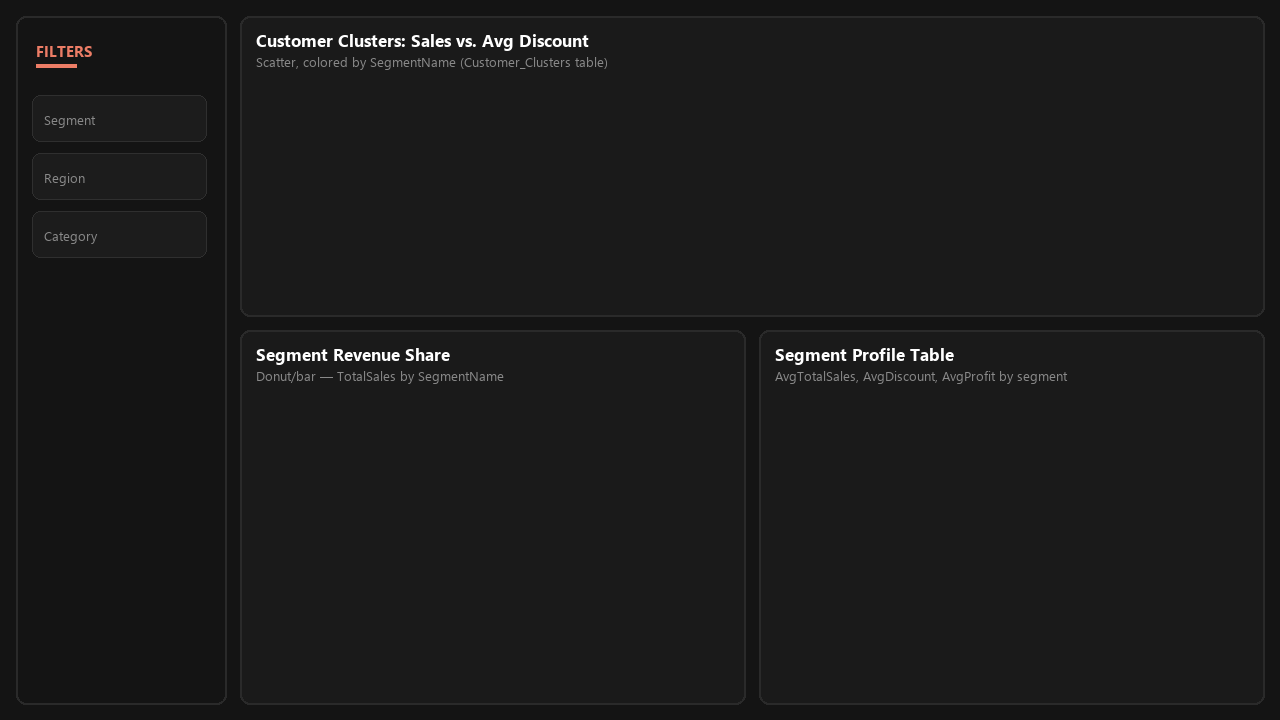

This screenshot's page, from the dashboard's own definition file:
{"tool":"powerbi","page":{"name":"Segmentation","canvas":[1280,720],"ordinal":2},"visuals":[{"type":"shape","box":[21.7,11.7,1236.7,63.3],"z":0},{"type":"textbox","box":[34.5,18.2,650.9,68.2],"z":1},{"type":"slicer","fields":{"Values":["Customer_Clusters.SegmentName"]},"box":[962.5,27.5,91.8,47.3],"z":2},{"type":"slicer","fields":{"Values":["Orders.Region"]},"box":[1053.8,28.8,91.8,47.3],"z":3},{"type":"slicer","fields":{"Values":["Orders.Category"]},"box":[1146.2,27.5,91.8,47.3],"z":4},{"type":"scatterChart","fields":{"Series":["Customer_Clusters.SegmentName"],"X":["Customer_Clusters.AvgDiscount"],"Y":["Customer_Clusters.TotalSales"]},"box":[21.7,86.7,1236.7,301.7],"z":5},{"type":"donutChart","fields":{"Category":["Customer_Clusters.SegmentName"],"Y":["Sum(Customer_Clusters.TotalSales)"]},"box":[21.7,408.3,618.3,293.3],"z":6},{"type":"tableEx","title":"Segment Profile Table","fields":{"Values":["Customer_Clusters.SegmentName","Customer_Clusters.TotalSales","Customer_Clusters.AvgDiscount","Customer_Clusters.TotalProfit","Customer_Clusters.OrderCount"]},"box":[651.7,408.3,606.7,293.3],"z":7}]}

Visuals, with their boxes in screenshot pixels (x1, y1, x2, y2), scaled from the page's 1280x720 canvas onto the 1280x720 screenshot:
shape: {"x1": 22, "y1": 12, "x2": 1258, "y2": 75}
textbox: {"x1": 34, "y1": 18, "x2": 685, "y2": 86}
slicer - Customer_Clusters.SegmentName: {"x1": 962, "y1": 28, "x2": 1054, "y2": 75}
slicer - Orders.Region: {"x1": 1054, "y1": 29, "x2": 1146, "y2": 76}
slicer - Orders.Category: {"x1": 1146, "y1": 28, "x2": 1238, "y2": 75}
scatterChart - Customer_Clusters.SegmentName x Customer_Clusters.AvgDiscount: {"x1": 22, "y1": 87, "x2": 1258, "y2": 388}
donutChart - Customer_Clusters.SegmentName x Sum(Customer_Clusters.TotalSales): {"x1": 22, "y1": 408, "x2": 640, "y2": 702}
"Segment Profile Table" tableEx: {"x1": 652, "y1": 408, "x2": 1258, "y2": 702}
